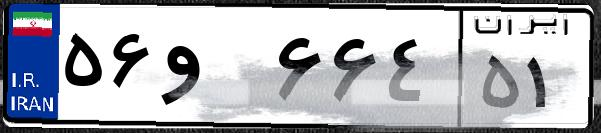1: (525, 38, 570, 115)
4: (385, 28, 445, 110)
5: (57, 26, 110, 100), (475, 38, 525, 113)
6: (270, 28, 330, 110), (330, 28, 385, 110), (110, 28, 158, 98)
و: (158, 20, 270, 120)
